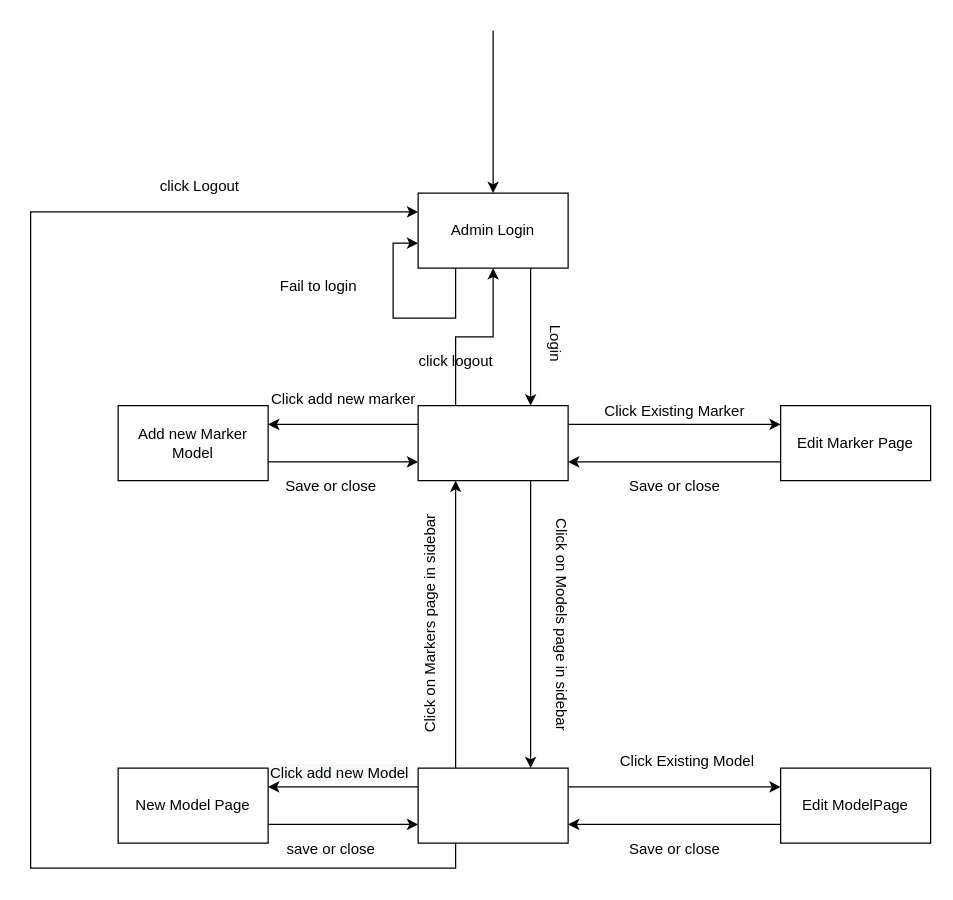
The diagram is 953 pixels wide and 900 high, and some of its shapes have lost their labels. The shapes that lost their labels are listed below. From the top down, each one's centre as x and y in pixels, then its label:
At point 492,442: "Markers Page".
At point 492,805: "Models Page".
